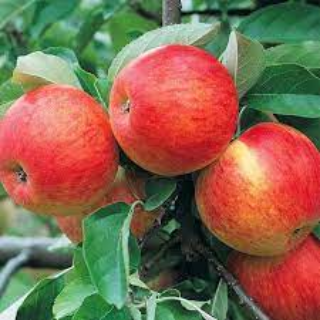tao: (105, 41, 243, 180), (194, 118, 320, 258), (2, 84, 115, 221)
